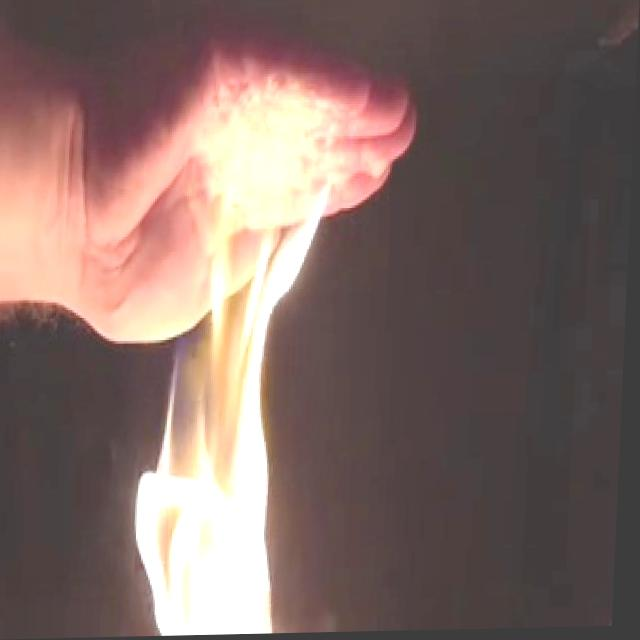Fire: (124, 159, 338, 637)
